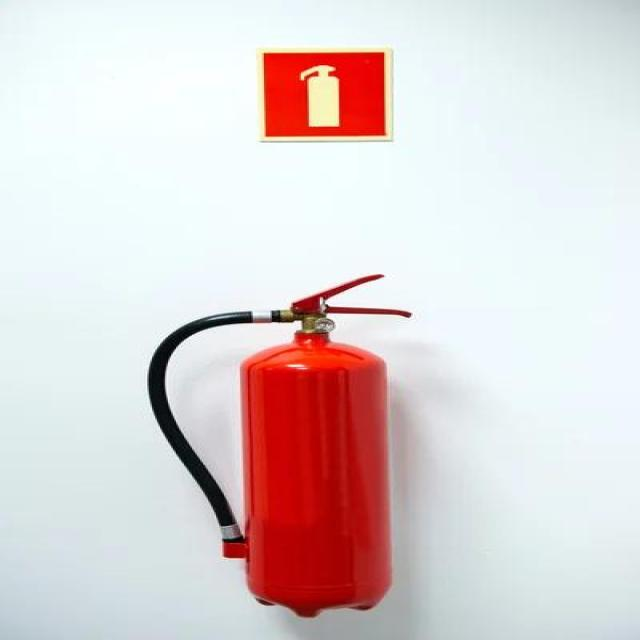fire_extinguisher: (134, 269, 420, 621)
